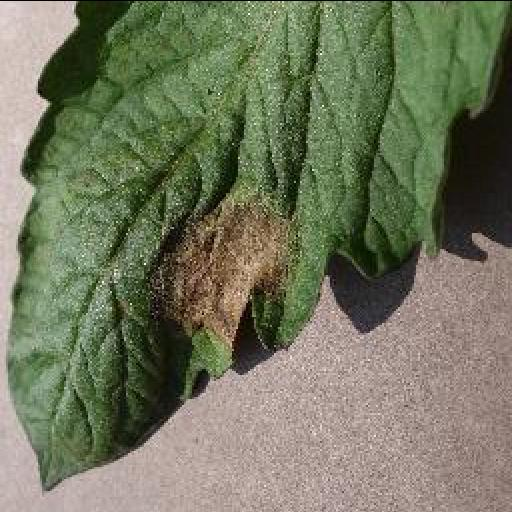disease_tomato: (0, 0, 512, 486)
